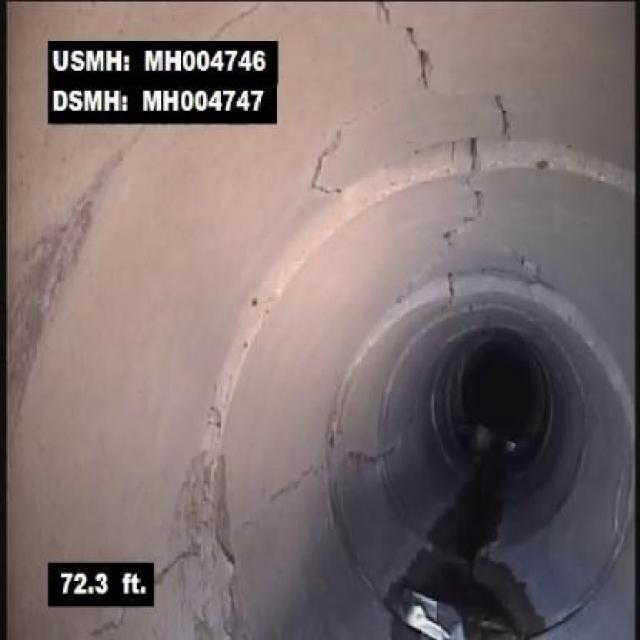Crack: (363, 3, 454, 109), (236, 465, 324, 540), (303, 117, 351, 197), (475, 66, 523, 131), (206, 3, 263, 39), (157, 539, 200, 583)
Joint offset: (223, 237, 322, 374), (481, 138, 634, 192), (359, 136, 463, 202), (431, 266, 554, 306)
